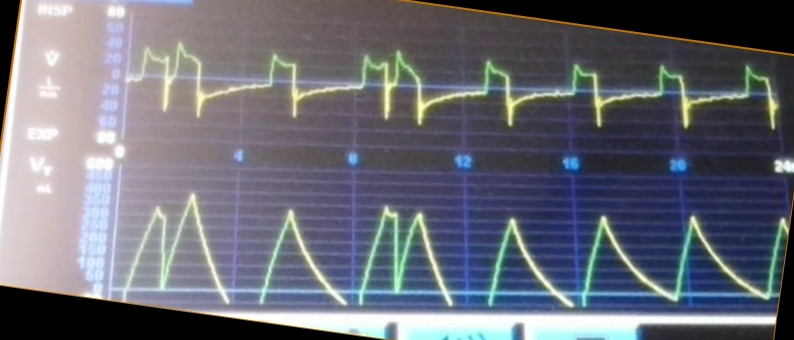Double_Triggering Flow: (130, 39, 780, 134)
Double_Triggering Volume: (122, 188, 769, 307)
